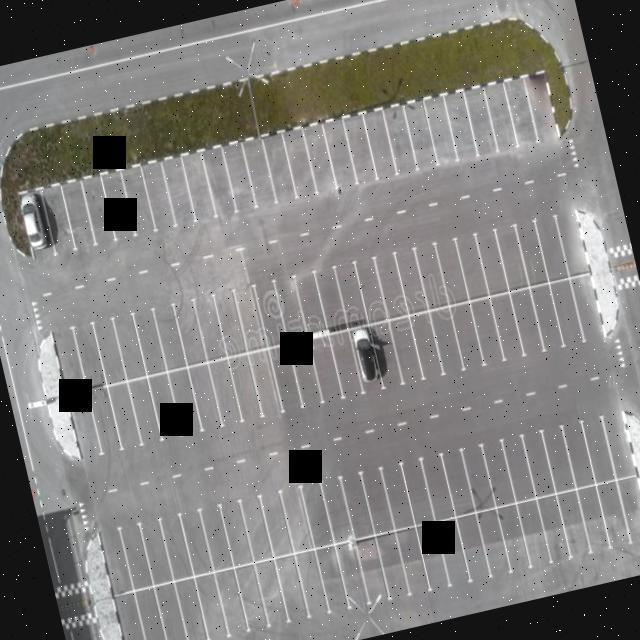car: (15, 185, 60, 263), (346, 320, 386, 400)
free: (277, 122, 322, 204), (382, 310, 427, 388), (310, 538, 354, 616), (304, 330, 347, 408), (318, 114, 361, 192), (298, 120, 341, 198), (526, 276, 567, 356), (364, 316, 406, 394), (264, 338, 306, 416), (285, 335, 328, 411), (479, 78, 522, 154), (252, 484, 296, 558), (98, 165, 139, 244), (218, 138, 260, 214), (426, 302, 467, 379), (244, 343, 286, 418), (512, 494, 552, 572), (452, 509, 492, 587), (190, 566, 232, 640), (558, 416, 598, 493), (103, 377, 144, 452), (164, 367, 206, 440), (230, 560, 270, 636), (372, 526, 412, 602), (78, 172, 118, 247), (118, 163, 158, 238), (461, 84, 501, 158), (451, 230, 492, 302), (230, 284, 272, 354), (573, 481, 612, 556), (417, 451, 457, 524), (406, 308, 446, 380), (458, 440, 498, 512), (156, 511, 196, 583), (210, 286, 250, 358), (270, 273, 312, 341), (511, 215, 550, 288), (410, 237, 450, 308), (420, 96, 460, 167), (498, 435, 538, 505), (88, 316, 128, 386), (290, 272, 332, 338), (432, 235, 472, 304), (58, 180, 96, 252), (337, 471, 379, 536), (328, 323, 362, 403), (331, 258, 371, 326), (521, 430, 559, 501), (251, 280, 291, 347), (148, 302, 188, 369), (378, 461, 417, 529), (448, 298, 484, 370), (468, 294, 504, 366), (171, 574, 210, 640), (392, 248, 430, 314), (312, 267, 351, 331), (352, 253, 388, 320), (372, 252, 409, 317)
